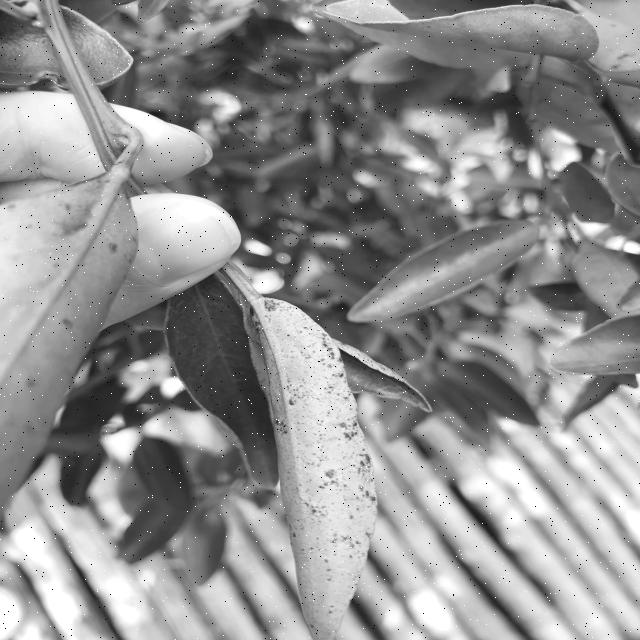melanose: (247, 283, 393, 640)
